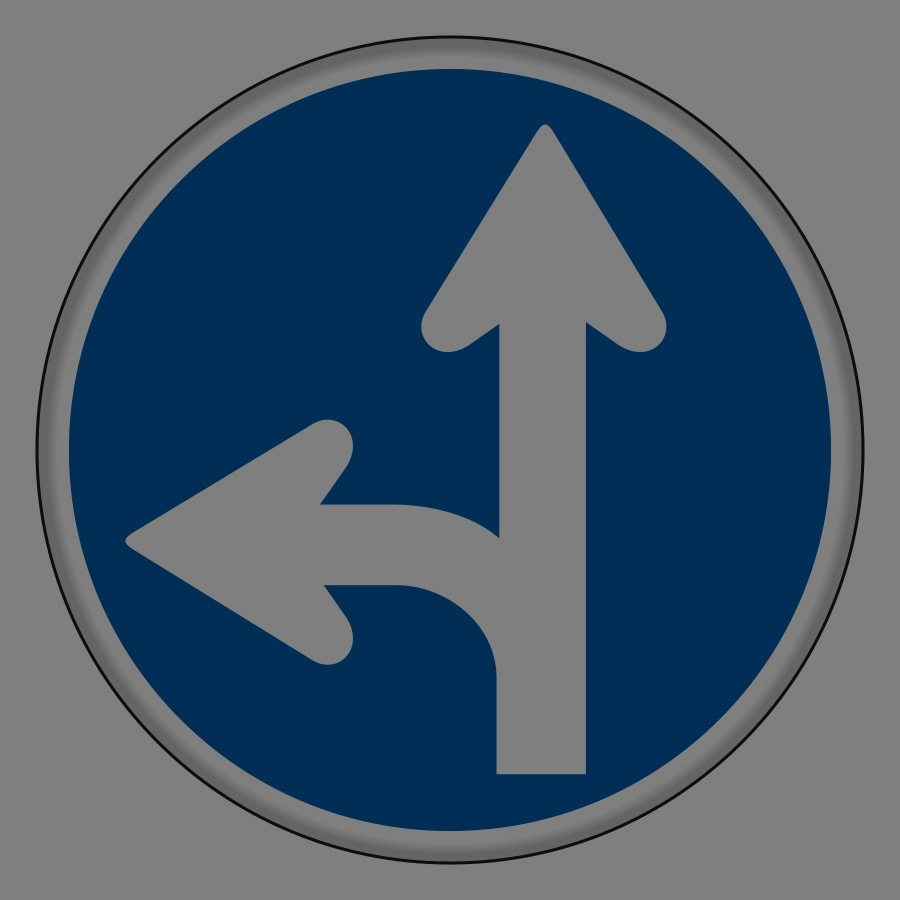Direction_sign: (22, 28, 869, 880)
